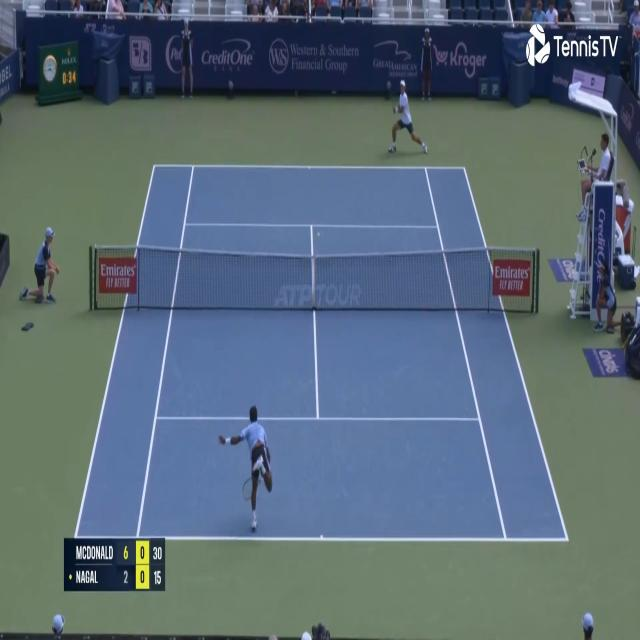tennis-player: (218, 401, 274, 532), (387, 76, 431, 160)
